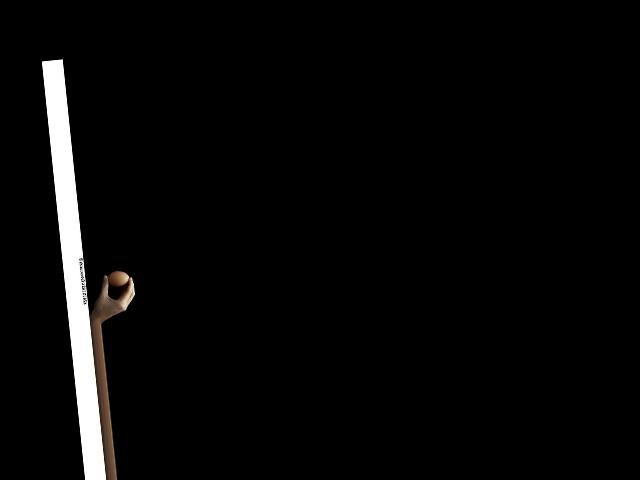egg: (107, 269, 130, 287)
